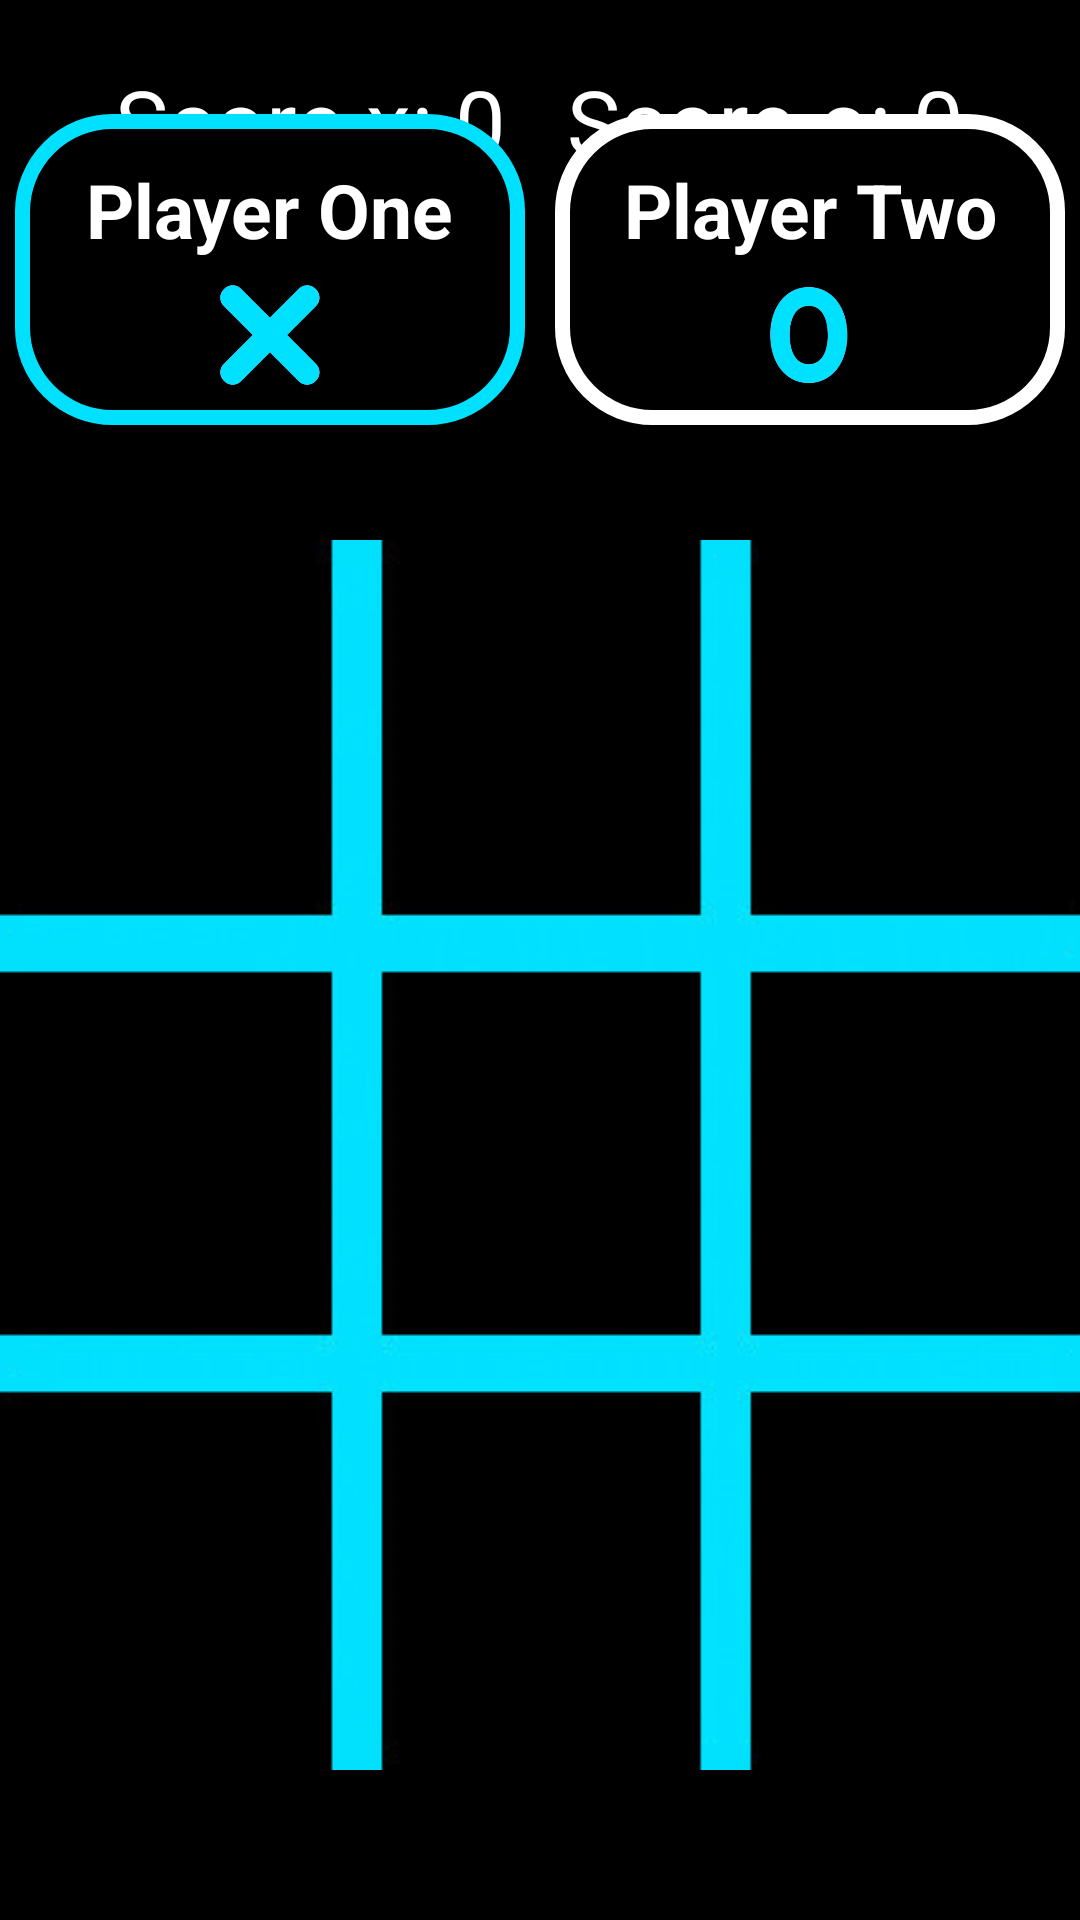

Screen size 1080px×1920px. Icon name, then its box in pixels as detection(x1, y1, x2, y2):
oimage: detection(770, 287, 848, 383)
ximage: detection(220, 285, 320, 385)
